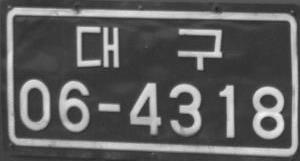0: (19, 77, 51, 131)
1: (211, 84, 245, 138)
3: (169, 82, 202, 137)
4: (129, 81, 161, 135)
6: (58, 78, 90, 132)
8: (251, 84, 286, 140)
대구_D: (75, 25, 223, 71)
